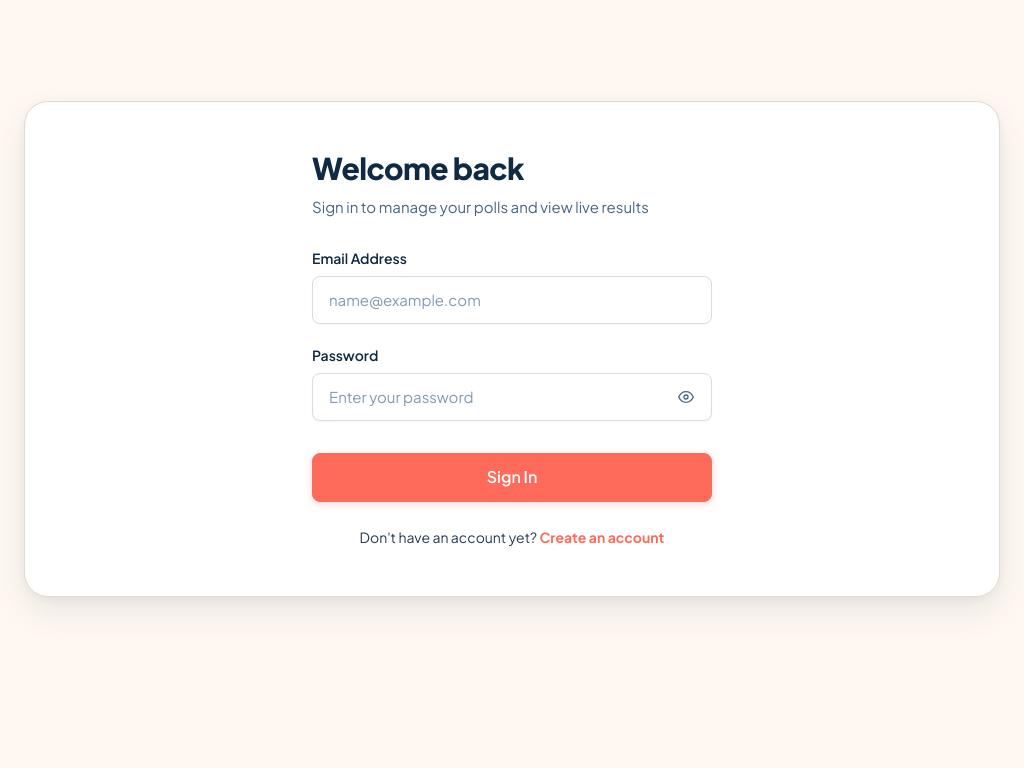
Scenario: Authentication & Protected Routes › validates required fields on LoginPage
Click the button "Sign In" at (512, 477), box [312,453,712,502]
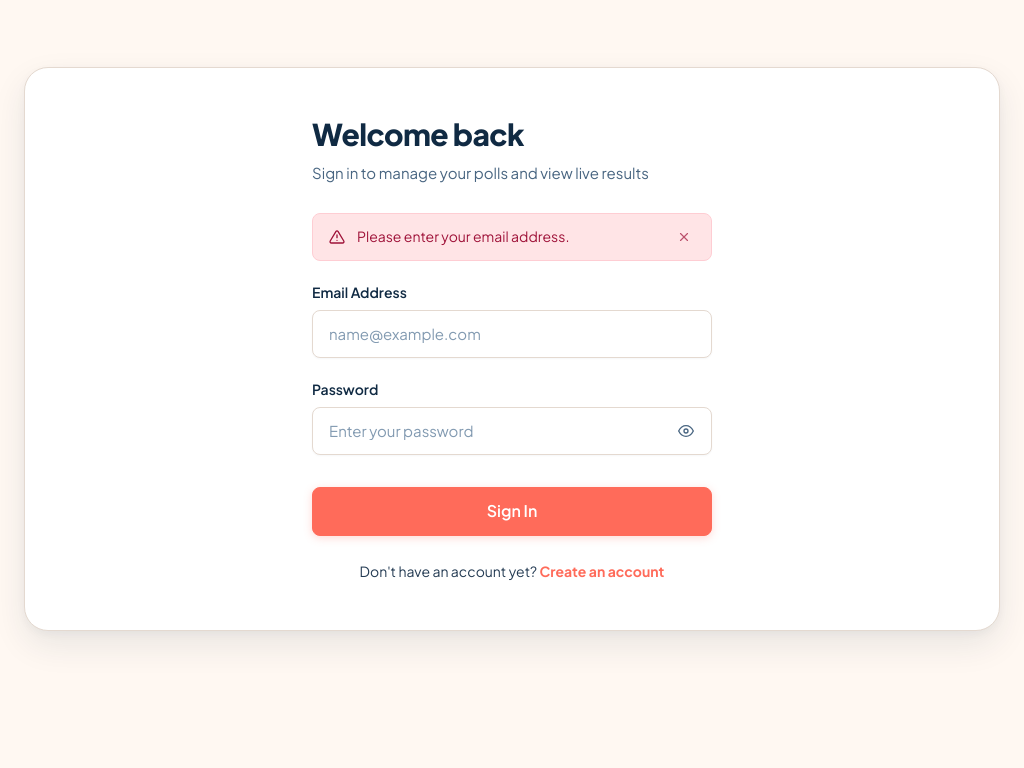
Check: the text "Please enter your email address." is shown, box [357,228,569,246]
Type "invalid-email" into the field labelled "Email Address" at (512, 334), box [312,310,712,358]
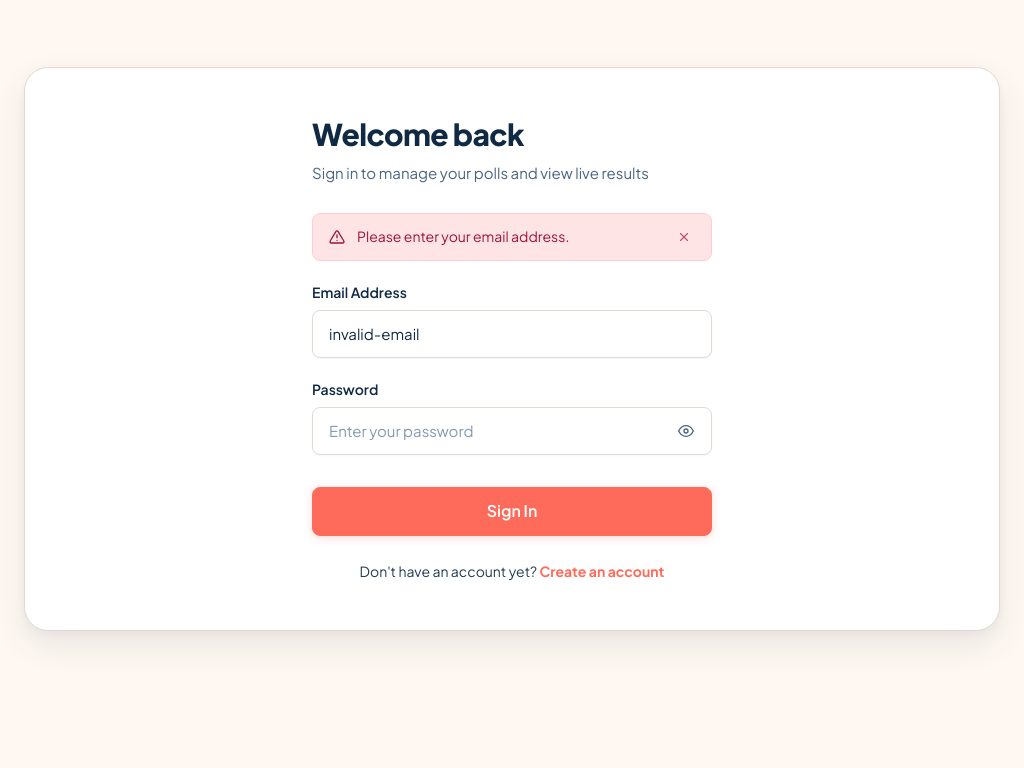
Click the button "Sign In" at (512, 511), box [312,487,712,536]
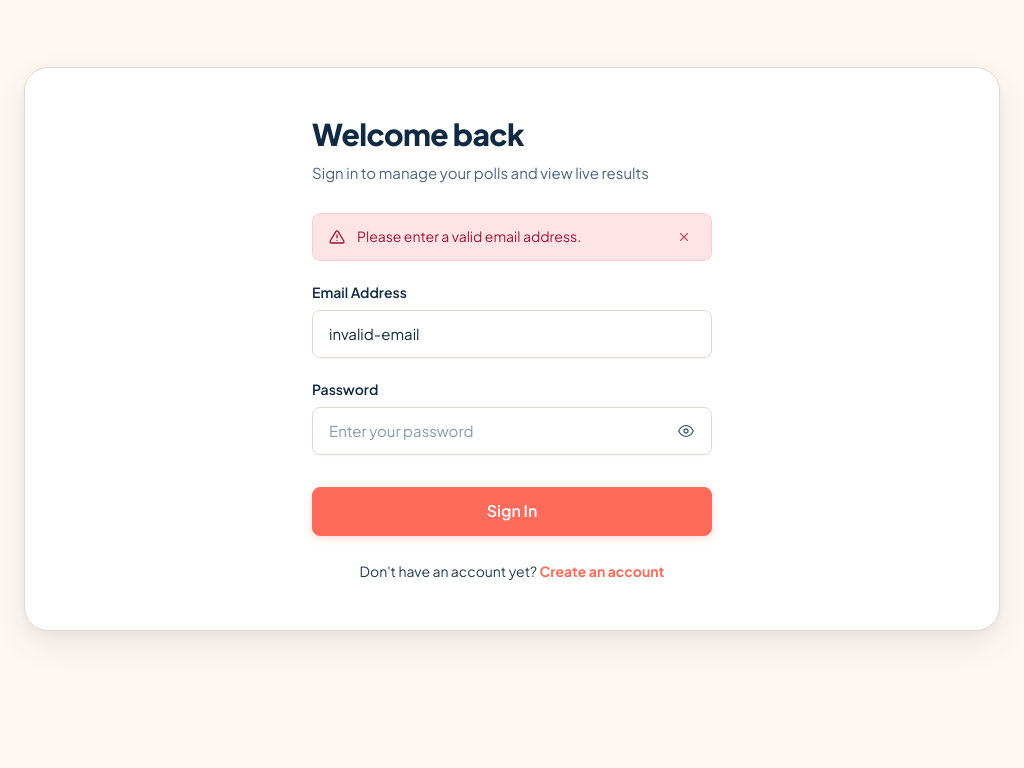
Check: the text "Please enter a valid email address." is shown, box [357,228,581,246]
